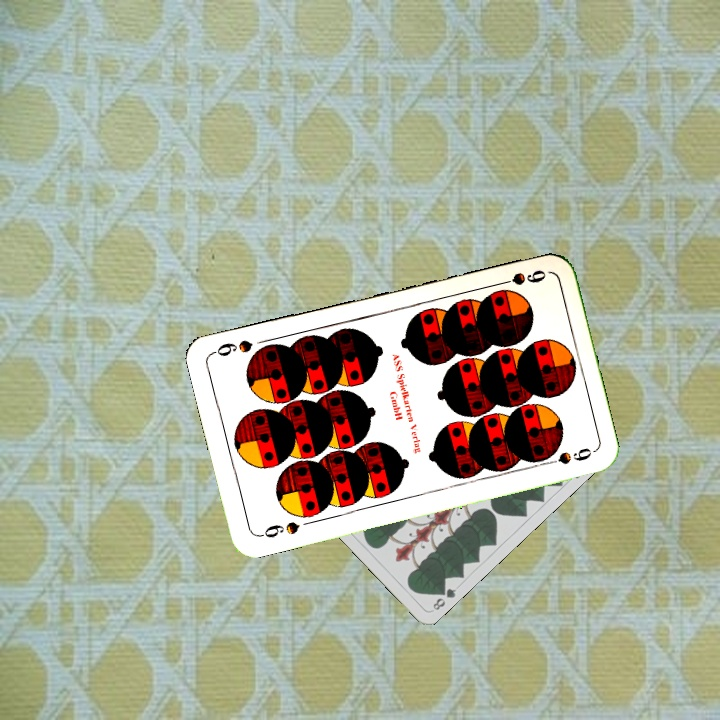G8: (429, 582, 459, 613)
S9: (491, 265, 549, 297), (254, 517, 303, 541)
